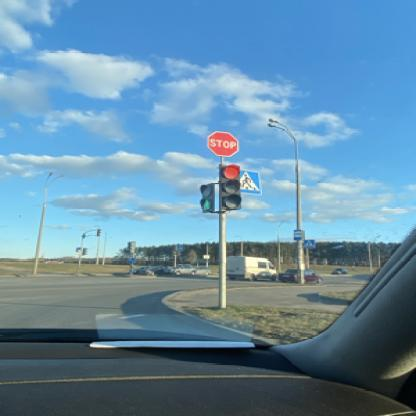Red Light: (221, 164, 242, 210)
Stop: (206, 130, 239, 157)
